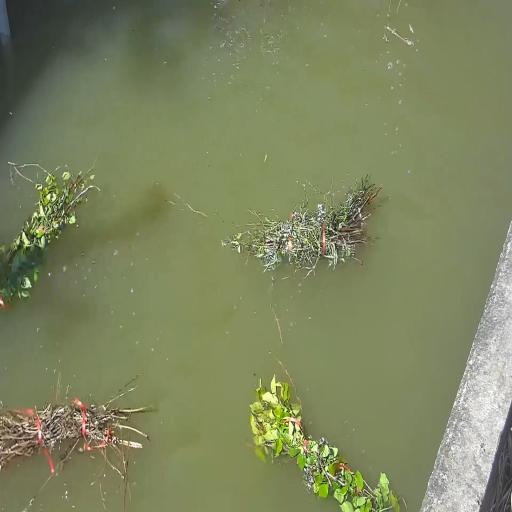twig: (250, 375, 399, 512), (223, 176, 381, 276), (0, 164, 99, 308), (0, 386, 152, 475)
